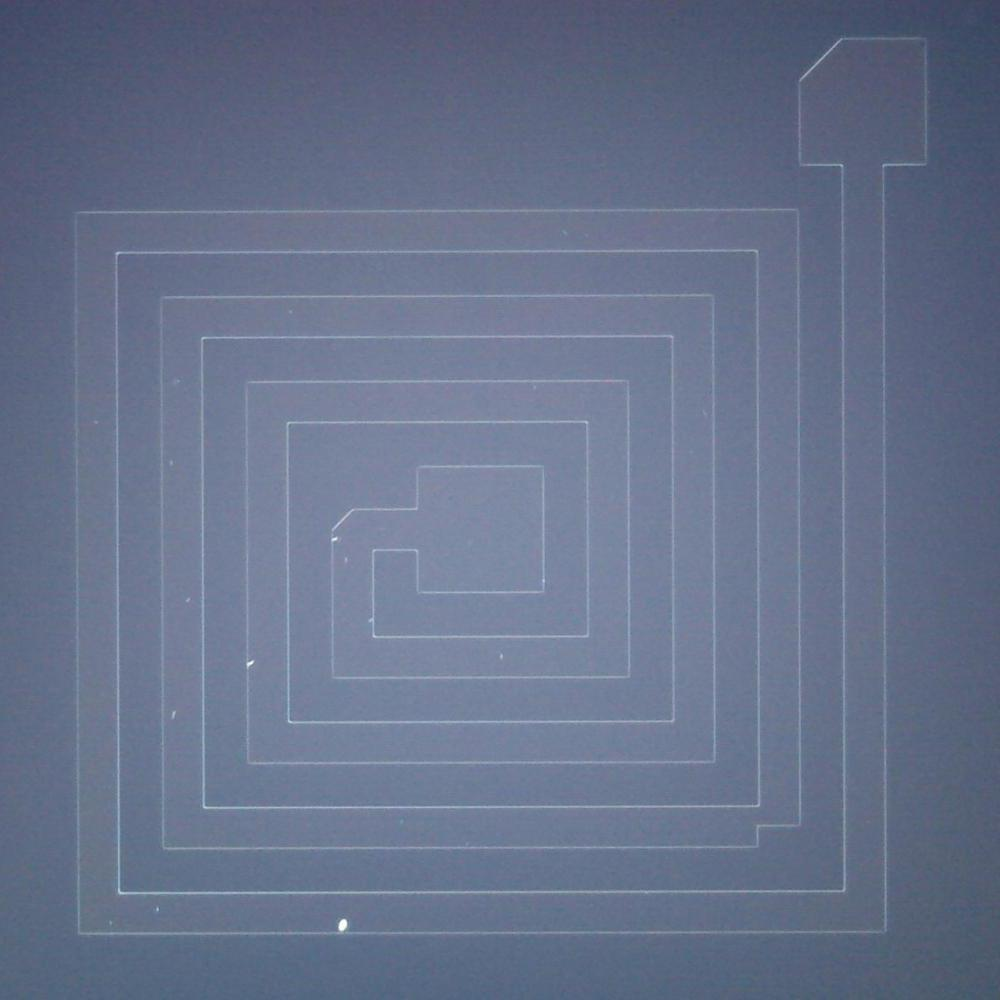edge circuit: (784, 32, 851, 92), (744, 813, 817, 857), (320, 497, 364, 537)
spot: (330, 909, 354, 936)
